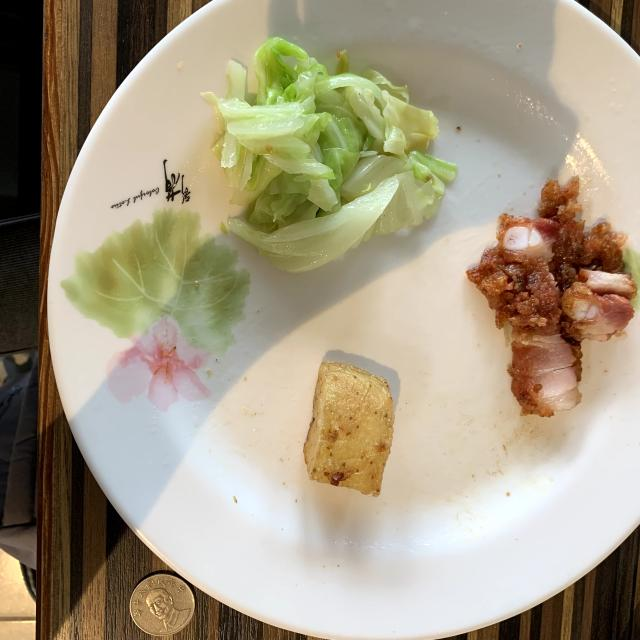cabbage: (202, 38, 458, 271)
coin: (130, 574, 195, 636)
fried potato: (304, 361, 394, 496)
red grilled pork: (466, 178, 636, 416)
